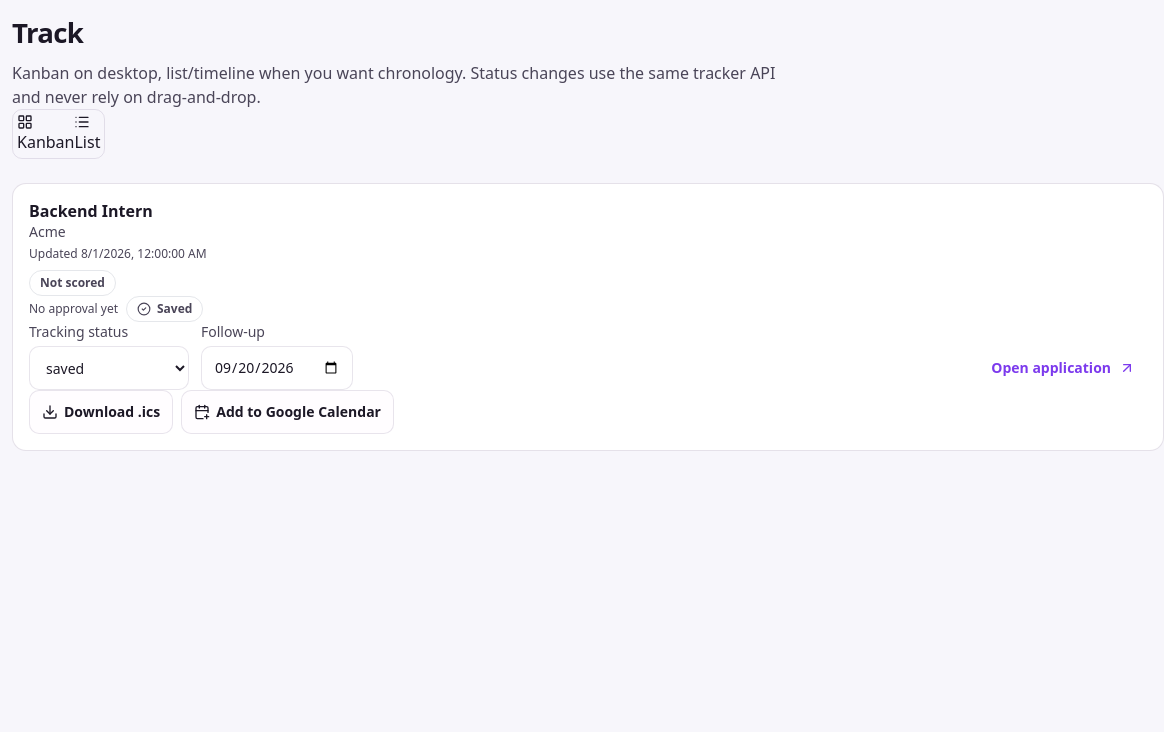
Scenario: ApplicationsPage › shows an error banner if the .ics download fails
The image size is (1164, 732).
Expected: the heading "Backend Intern" is shown, left=29, top=200, right=153, bottom=222
What coordinates should you click on to do the following:
click the button "Download .ics"
I would click on:
 (101, 412)
Its box is left=29, top=390, right=173, bottom=434.
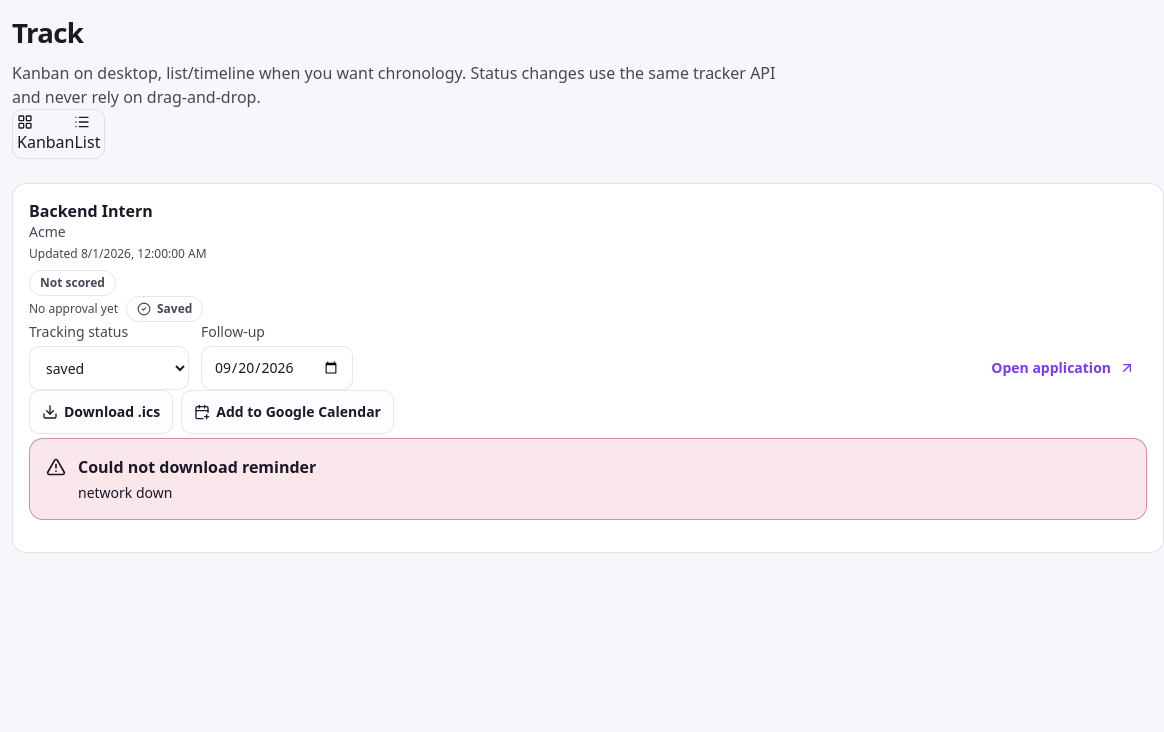
Expected: the text "Could not download reminder" is shown, left=78, top=456, right=316, bottom=480
